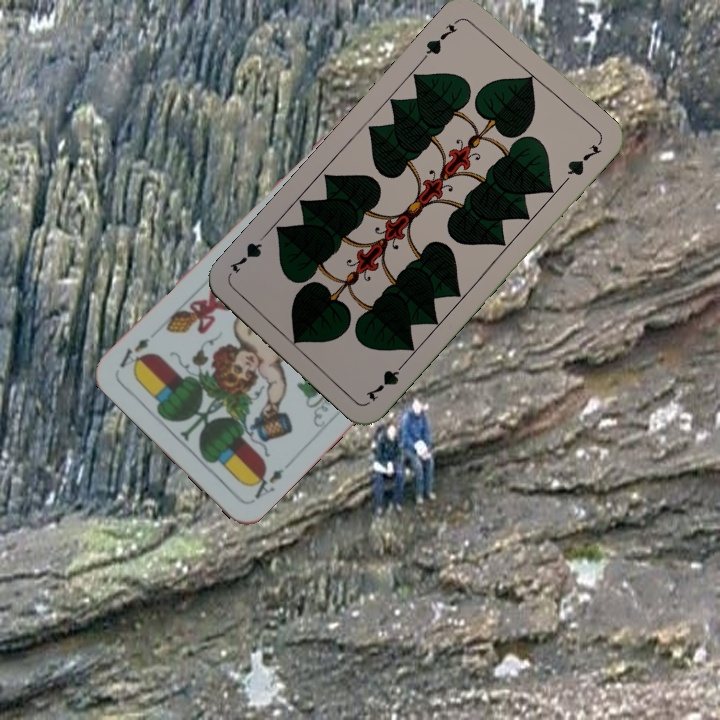EA: (245, 464, 287, 502)
G7: (361, 356, 410, 404), (419, 14, 463, 63)
